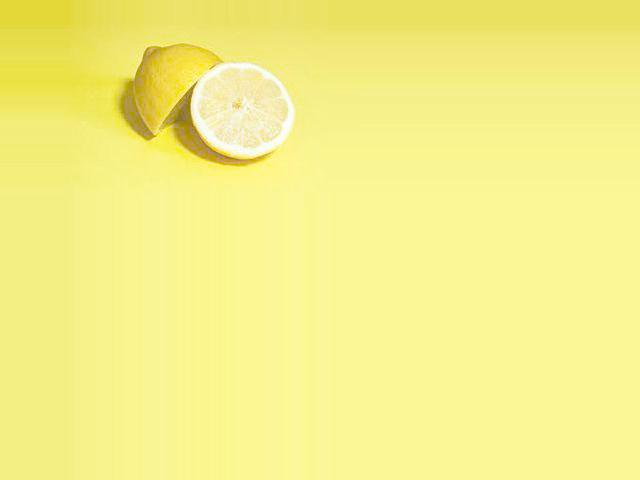lemon: (134, 37, 227, 150)
